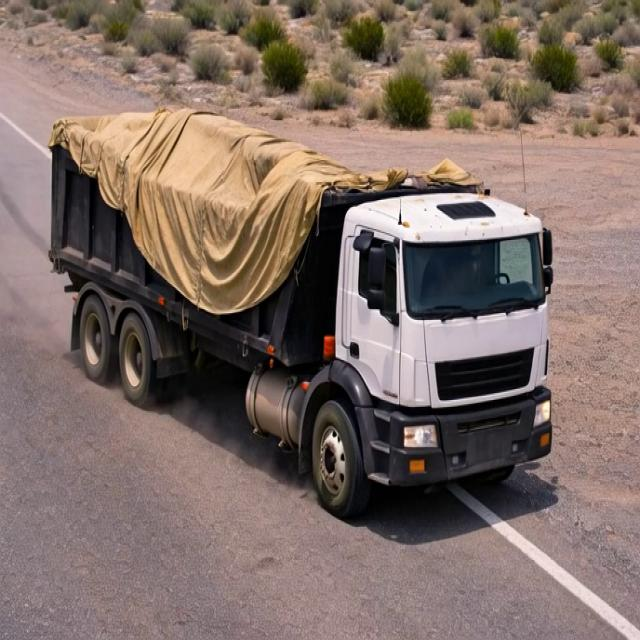trailer: (47, 105, 487, 207)
truck: (37, 84, 567, 510)
